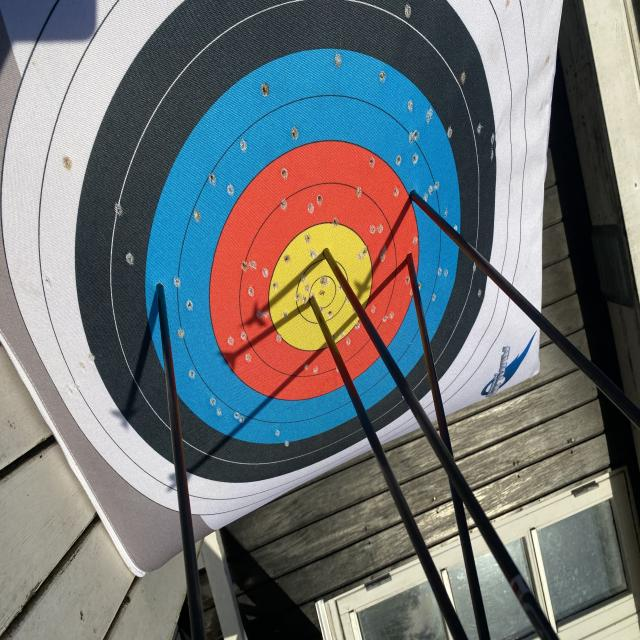Arrow_Blue: (394, 166, 439, 213), (150, 270, 176, 308)
Arrow_Red: (398, 247, 428, 275)
Arrow_Yellow: (295, 282, 328, 318), (316, 236, 339, 261)
